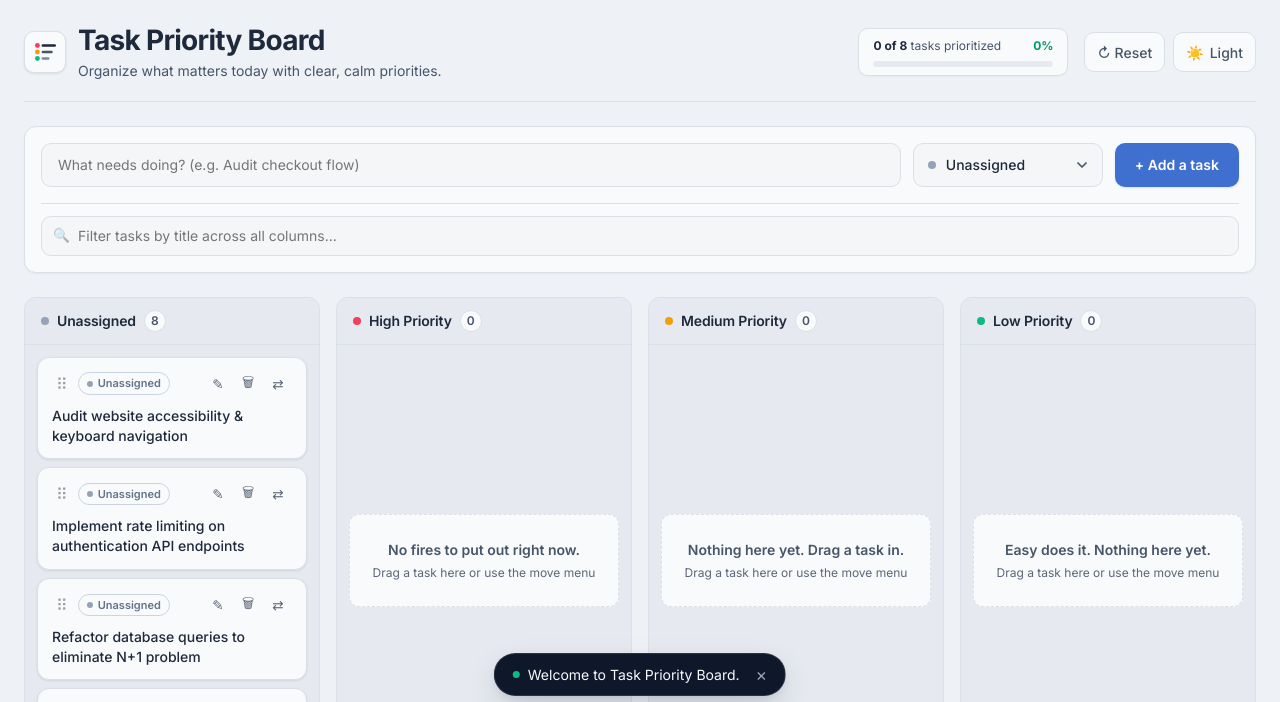
Test case: Task Priority Board Integration Tests › supports inline title editing with double-click or edit icon and validation
The image size is (1280, 702).
# Click edit icon
Click the button named "Edit title" at [218, 494], box [204, 480, 232, 508]
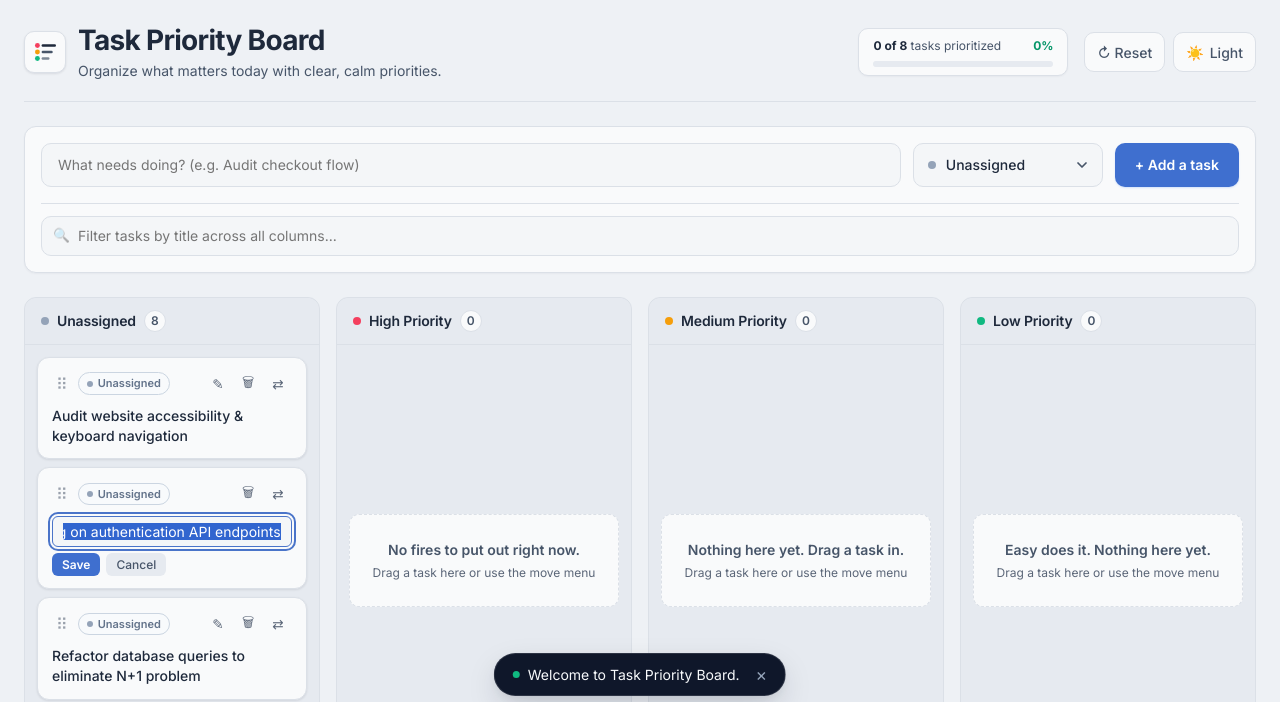
Expected: the field named "Edit task title" is shown
# Change title to new title and save
Replace the text in the field named "Edit task title" with "Implement Redis token bucket rate limiter" at [172, 532], box [52, 516, 292, 547]
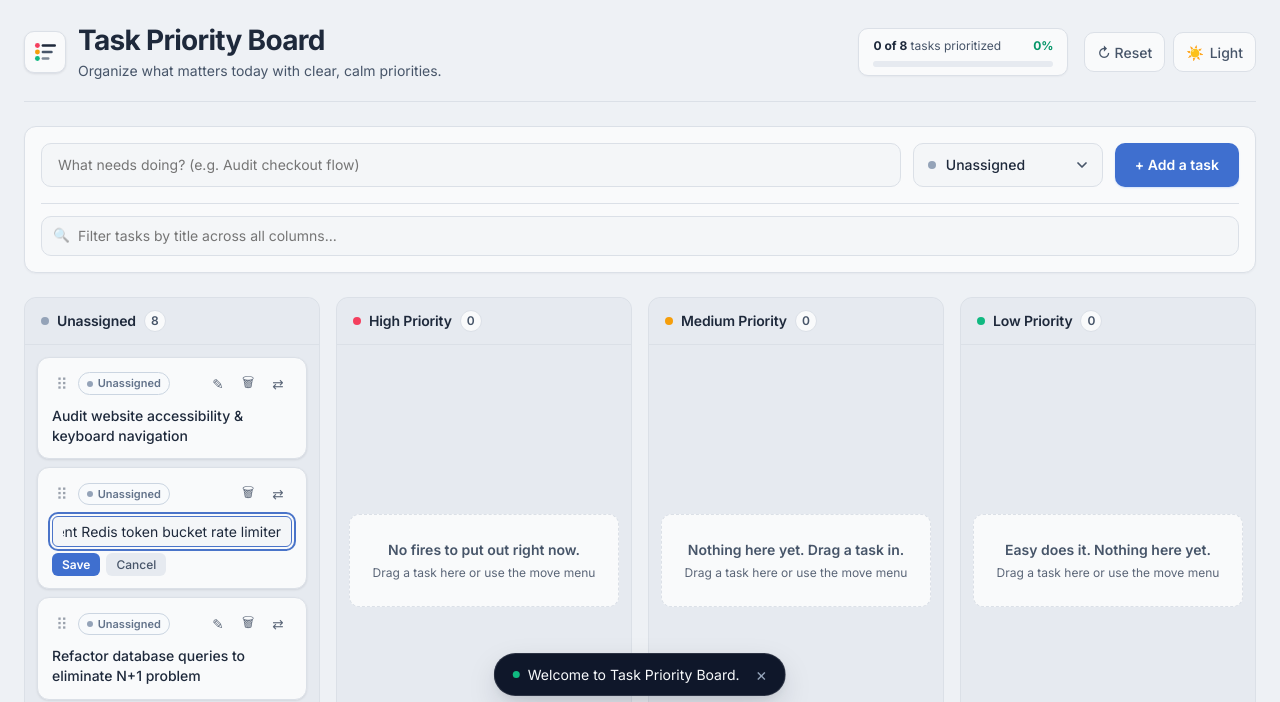
Click the button with aria-label "Save title" at [76, 565], box [52, 553, 100, 576]
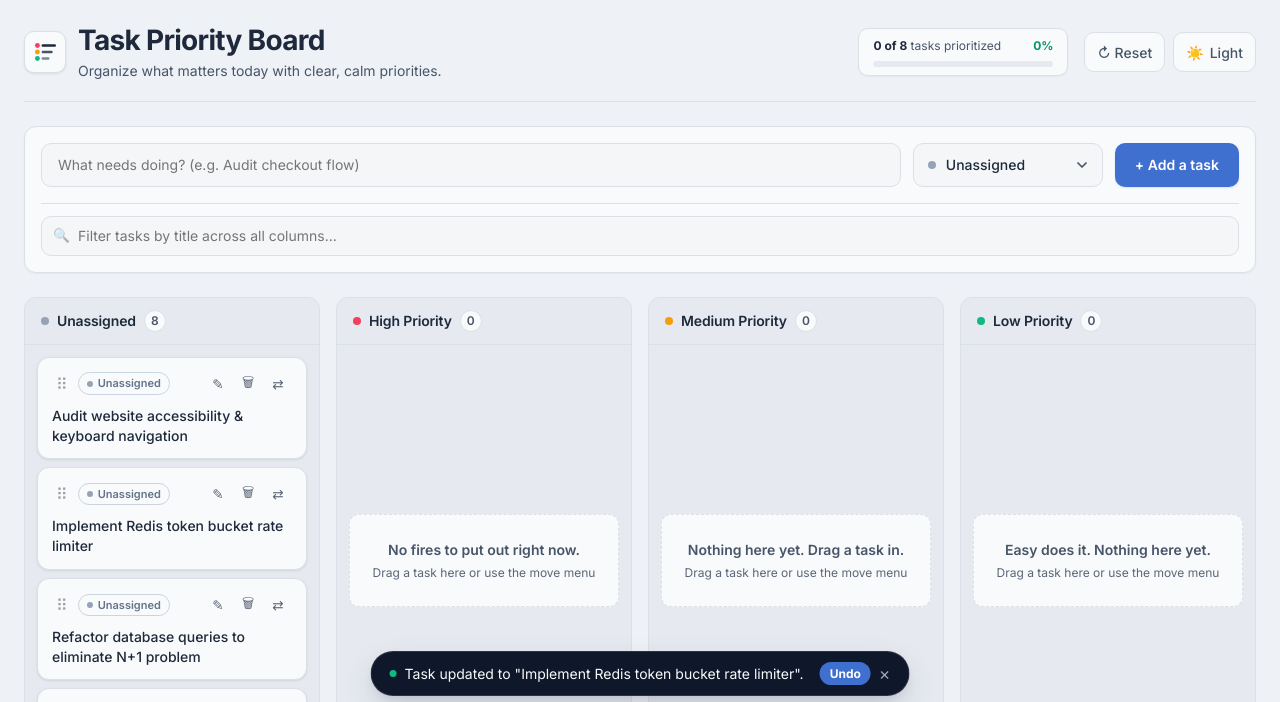
Expected: the heading "Implement Redis token bucket rate limiter" is shown, [52, 516, 292, 557]
